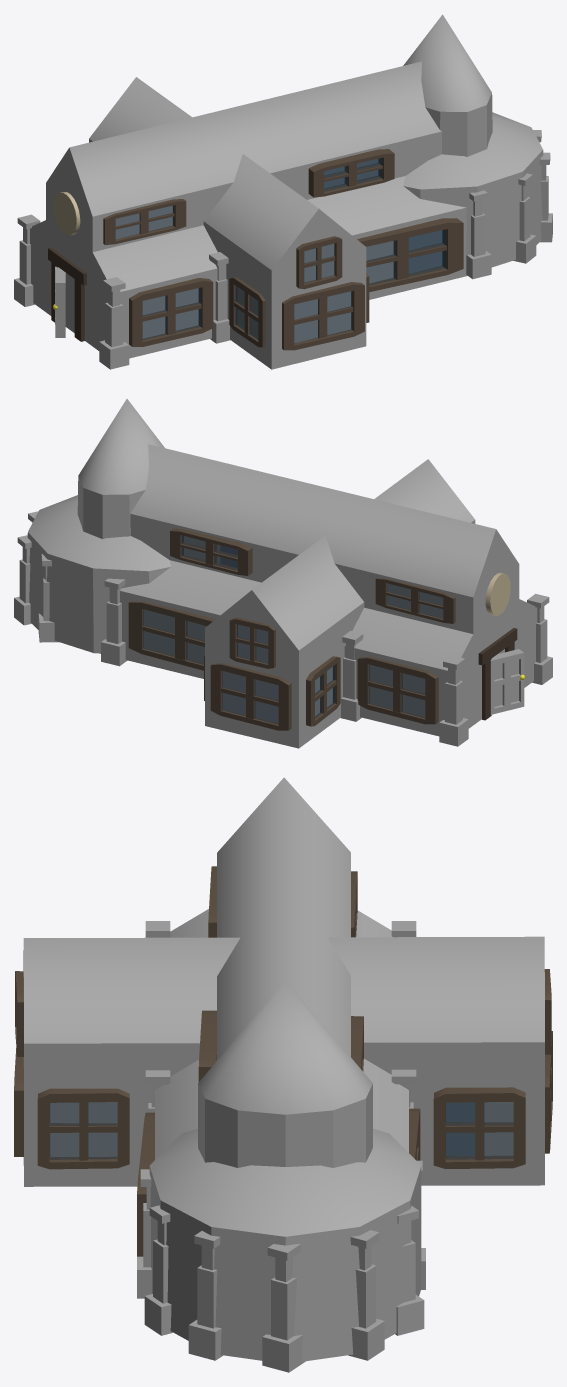
File: Big Building.fbx
3 views of the same model, one above another, from view 1: azimuth 30°, elevation 25°; view 2: azimuth 150°, elevation 25°; view 3: azimuth 270°, elevation 25° (orthographic). The views are drawn at different scales.
Visible parts, largest first — view 1: pCube3, pCube1, pCube2, pCube64 (×7), pCylinder2, pCube65 (×7), pCylinder1, pCylinder3, pCube10, pCube71, pCube9, pCube70 (+10 smaller); view 2: pCube3, pCube2, pCube1, pCube64 (×7), pCylinder2, pCube65 (×7), pCylinder1, pCube71, pCylinder3, pCube14, pCube13, pCube46 (+8 smaller); view 3: pCube2, pCylinder2, pCube3, pCylinder1, pCube64 (×7), pCube1, pCube65 (×2), pCube62, pCube61, pCube54, pCube58, pCube57 (+6 smaller).
Boxes of the visible parts, left/top/right/bottom form: pCube3: left=46, top=61, right=441, bottom=284; pCube1: left=30, top=176, right=467, bottom=358; pCube2: left=89, top=77, right=366, bottom=369; pCube64 (×7): left=103, top=149, right=463, bottom=350; pCylinder2: left=403, top=112, right=543, bottom=272; pCube65 (×7): left=116, top=158, right=445, bottom=343; pCylinder1: left=403, top=14, right=492, bottom=156; pCylinder3: left=53, top=192, right=80, bottom=235; pCube10: left=105, top=302, right=123, bottom=346; pCube71: left=55, top=266, right=65, bottom=337; pCube9: left=99, top=340, right=129, bottom=369; pCube70: left=74, top=275, right=84, bottom=341; pCube3: left=130, top=444, right=519, bottom=633; pCube2: left=205, top=459, right=475, bottom=748; pCube1: left=100, top=560, right=537, bottom=736; pCube64 (×7): left=128, top=528, right=455, bottom=730; pCylinder2: left=27, top=495, right=170, bottom=653; pCube65 (×7): left=143, top=535, right=442, bottom=724; pCylinder1: left=77, top=399, right=164, bottom=539; pCube71: left=490, top=649, right=524, bottom=714; pCylinder3: left=485, top=572, right=510, bottom=615; pCube14: left=445, top=680, right=462, bottom=724; pCube13: left=439, top=718, right=468, bottom=746; pCube46: left=106, top=601, right=121, bottom=643; pCube2: left=23, top=936, right=544, bottom=1186; pCylinder2: left=149, top=1129, right=421, bottom=1361; pCube3: left=217, top=777, right=350, bottom=1060; pCylinder1: left=198, top=980, right=372, bottom=1167; pCube64 (×7): left=14, top=971, right=552, bottom=1256; pCube1: left=155, top=909, right=408, bottom=1159; pCube65 (×2): left=50, top=1102, right=513, bottom=1159; pCube62: left=271, top=1277, right=296, bottom=1340; pCube61: left=262, top=1334, right=305, bottom=1372; pCube54: left=355, top=1264, right=376, bottom=1328; pCube58: left=197, top=1265, right=217, bottom=1328; pCube57: left=188, top=1320, right=223, bottom=1360.
Size of the model in its own units: 26.3 by 11.37 by 17.06.
